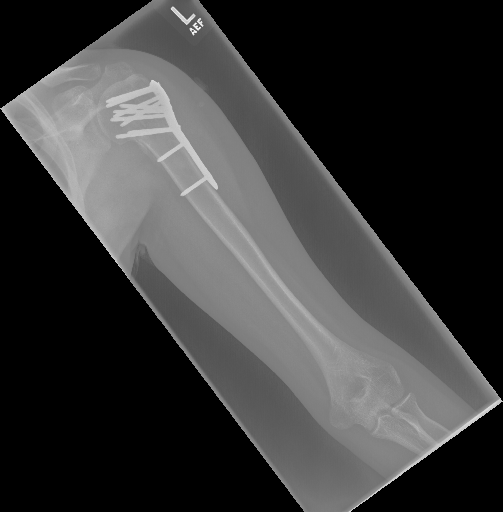implant: (101, 74, 220, 203)
